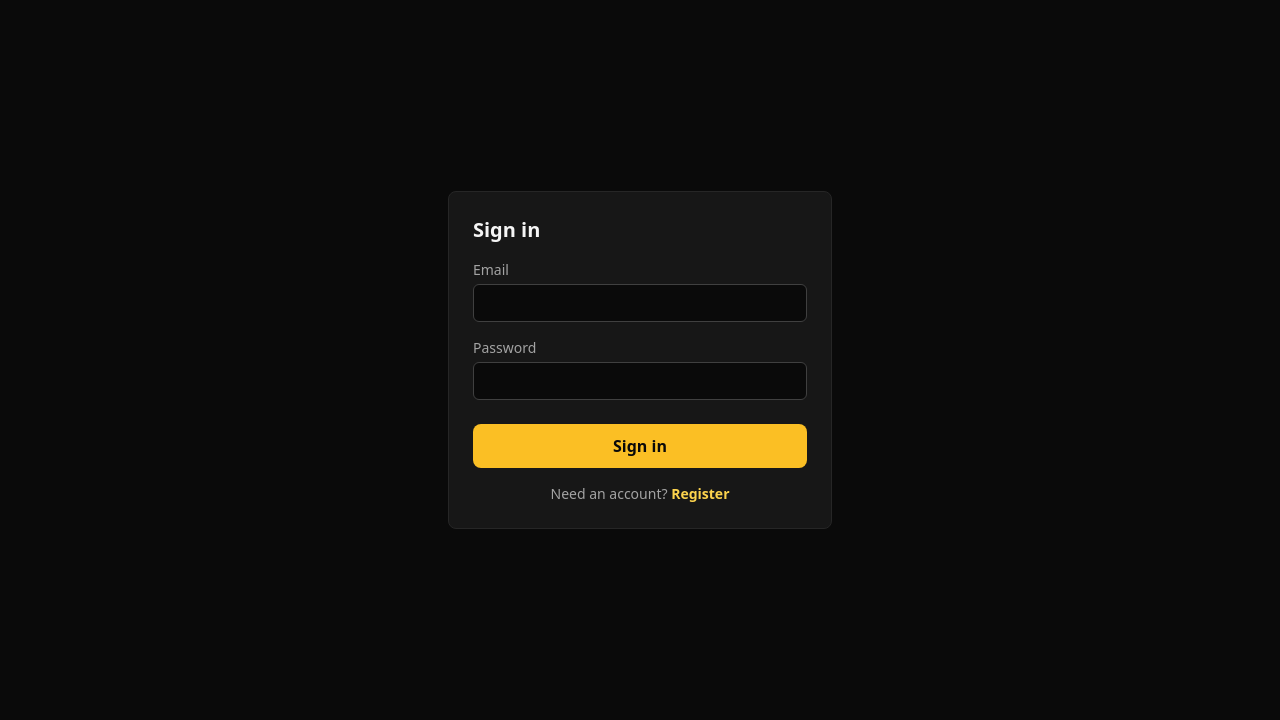
Test: App › logging in with a valid account reaches the lobby
Expected: the heading "Sign in" is shown, [473, 216, 540, 243]
Type "player@example.com" into the field labelled "Email". click: (640, 303)
box: [473, 284, 807, 322]
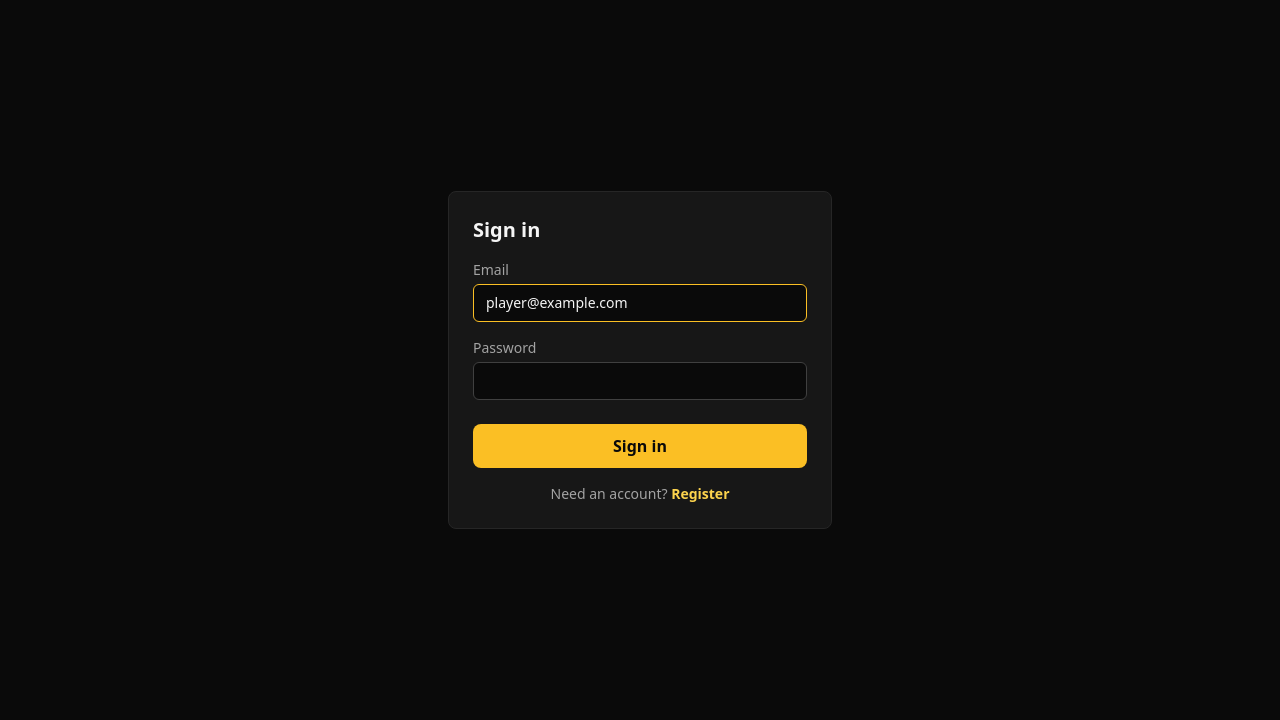
Type "password123" into the password field labelled "Password". click: (640, 381)
box: [473, 362, 807, 400]
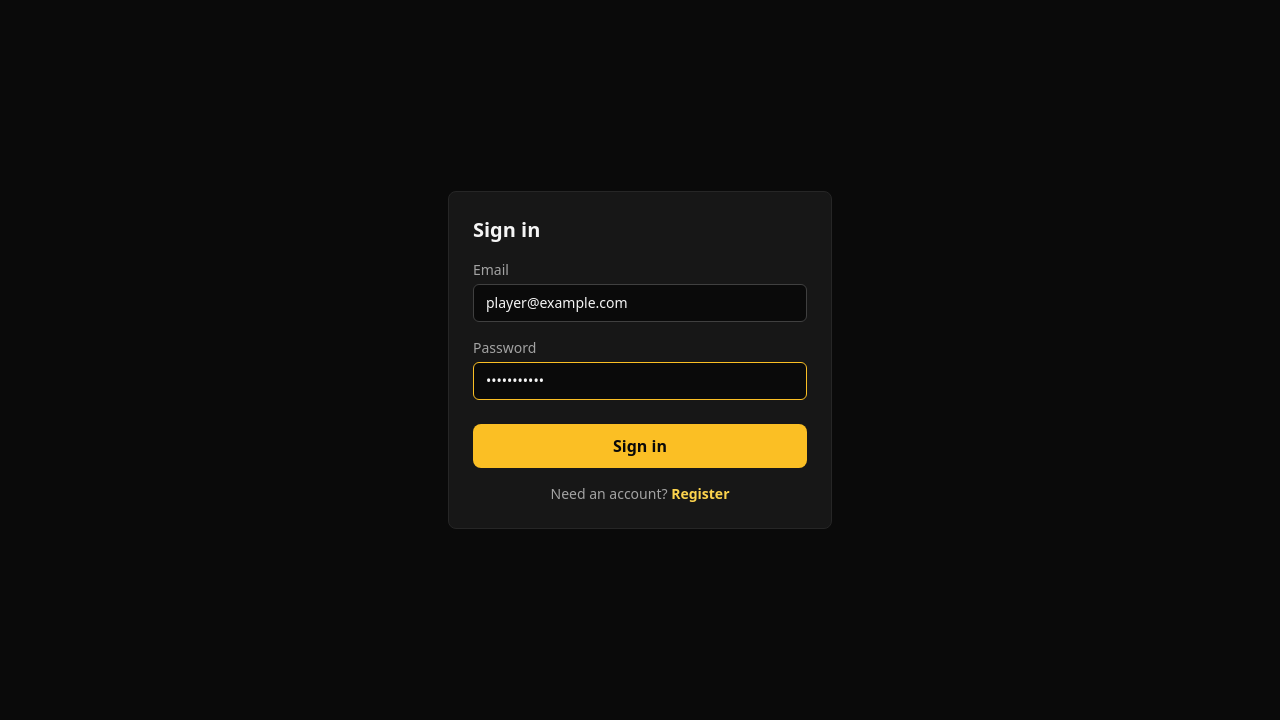
Click the button "Sign in". click: (640, 446)
box: [473, 424, 807, 468]
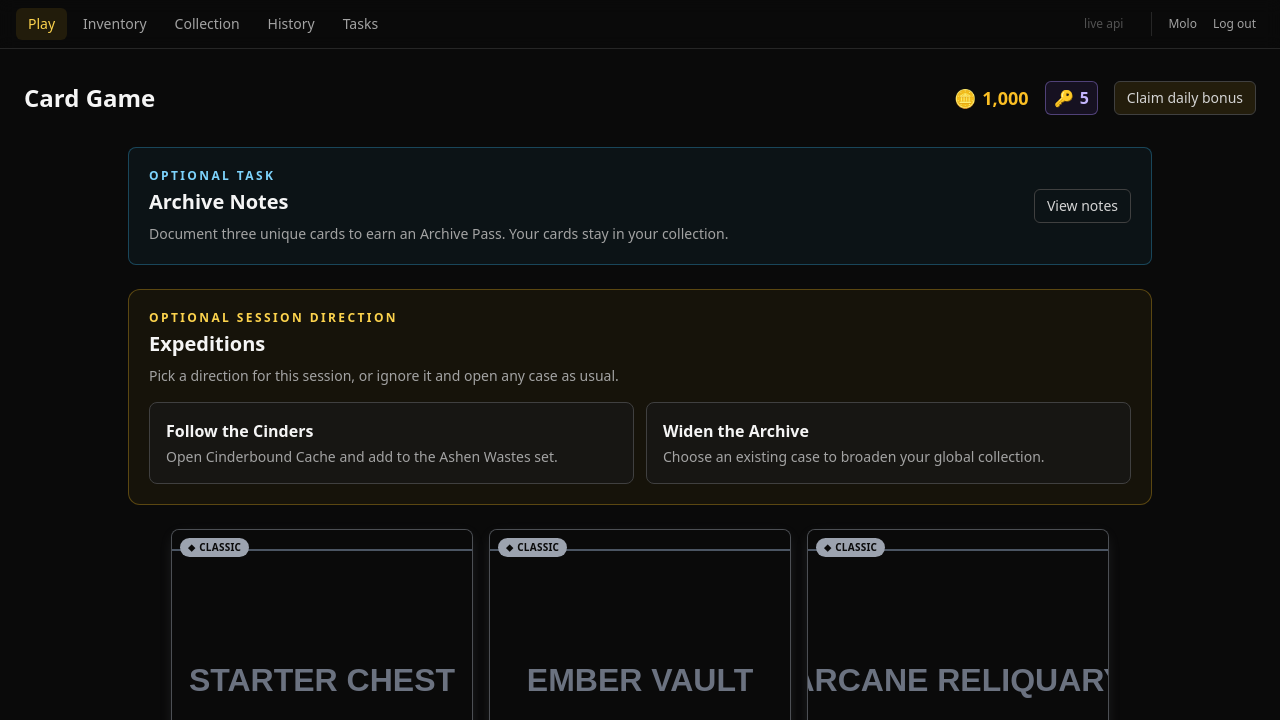
Expected: the heading "Card Game" is shown, [24, 82, 155, 114]
